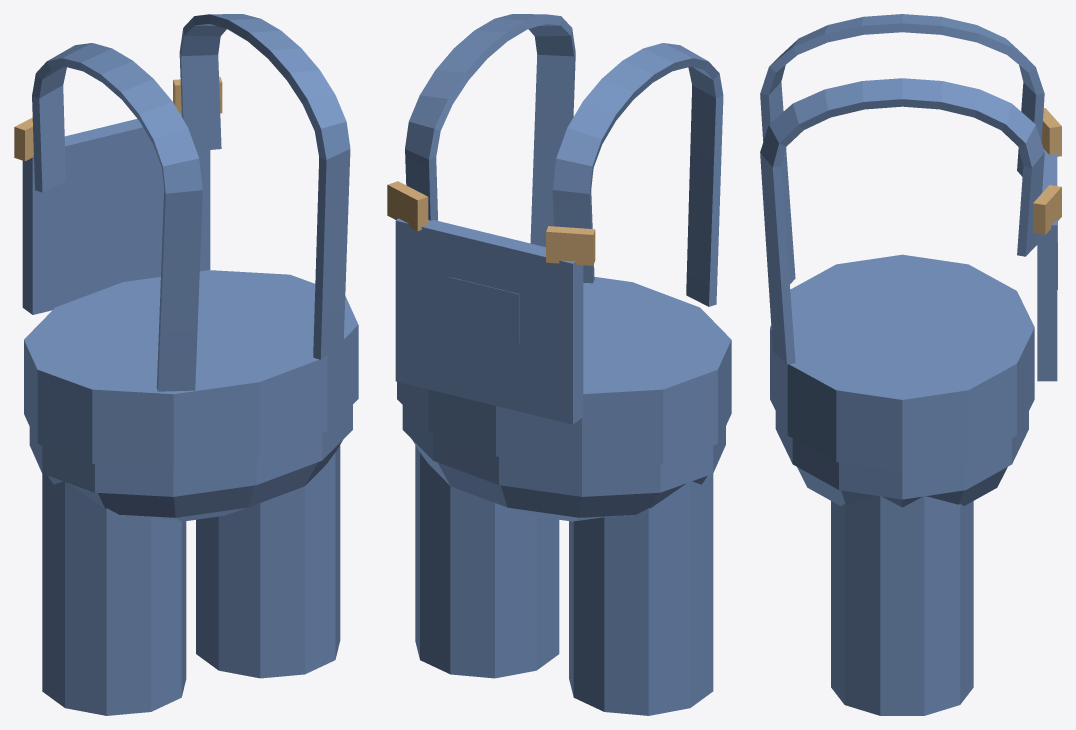
The model's file is pants_overalls.glb.
The picture shows the model from 3 angles, left to right: view 1: azimuth 30°, elevation 25°; view 2: azimuth 150°, elevation 25°; view 3: azimuth 270°, elevation 25°; orthographic projection. The views are drawn at different scales.
Parts seen in each view (by area): view 1: Torso, LegL, LegR; view 2: Torso, LegL, LegR; view 3: Torso, LegR.
Boxes of the visible parts, x1,y1,x2,y2 form: Torso: (14,14,358,521); LegL: (42,474,186,715); LegR: (196,445,340,678); Torso: (387,14,731,521); LegL: (569,474,713,715); LegR: (415,445,559,678); Torso: (760,14,1061,507); LegR: (831,496,973,715).
Bounding box in the file's own units: 0.52 × 1 × 0.4563.
